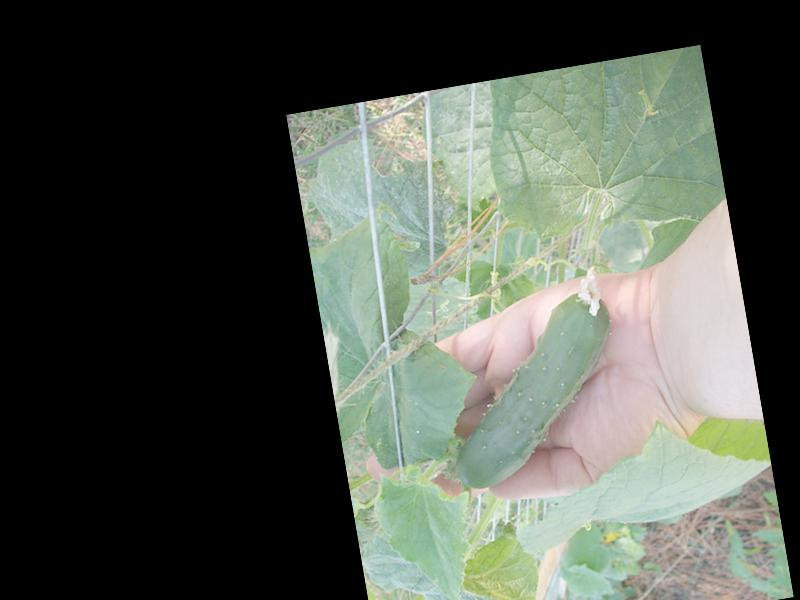Cucumber: (426, 263, 633, 490)
